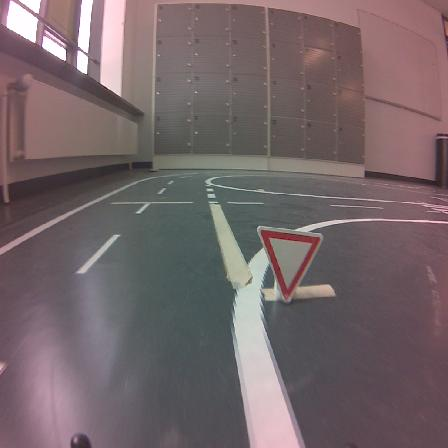GIVE_WAY: (257, 227, 322, 301)
